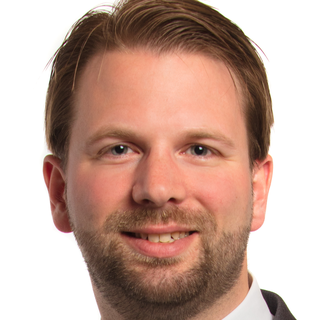eye: (172, 135, 225, 162), (93, 139, 143, 163)
